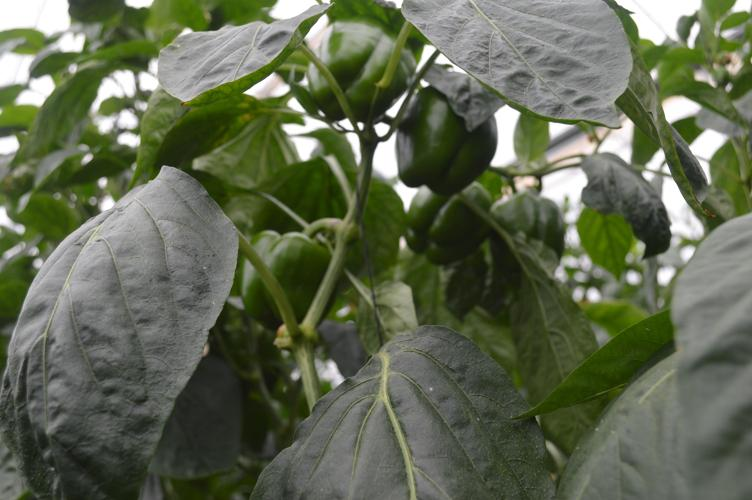BellPepper: (303, 18, 413, 121), (390, 92, 497, 189), (395, 173, 493, 274), (235, 232, 335, 324), (489, 189, 560, 272)
